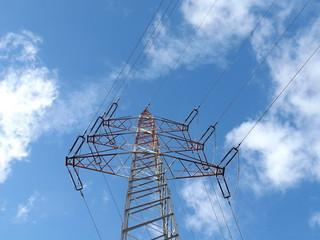power_tower: (63, 96, 241, 240)
